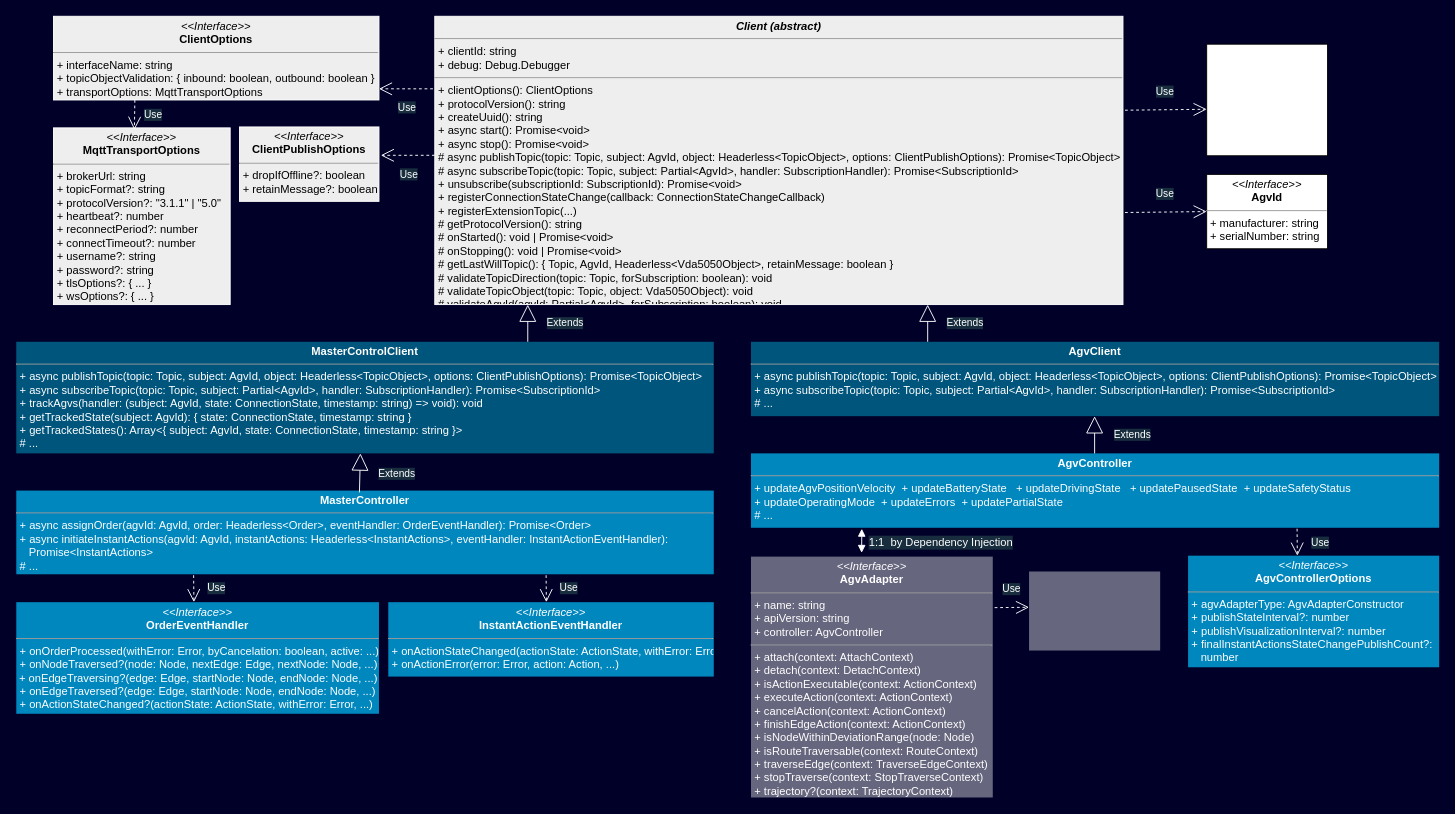
This 1455x814 diagram has some shape labels left out. Here are the shapes that lost their labels. From the top down, the centre of each, then its label:
At point (1267, 99): "<<Enumeration>> Topic Order InstantActions State Visualization Connection".
At point (1094, 610): "<<Interface>> AgvAdapterOptions empty; to be extended by specific adapter types".
